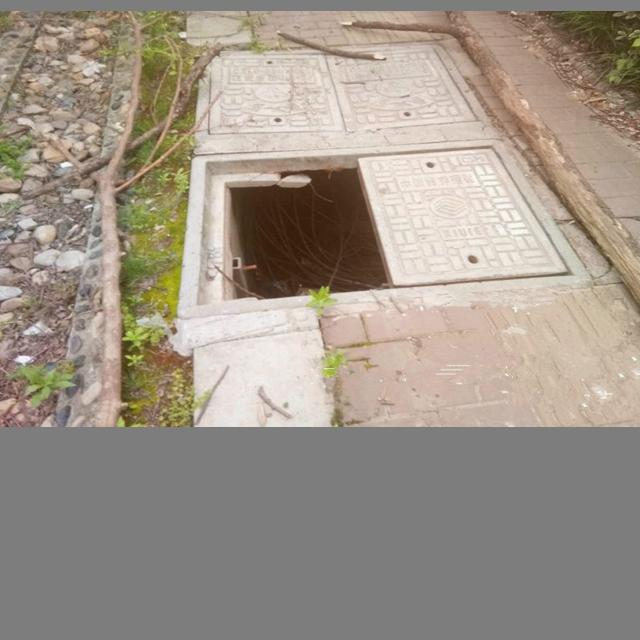good: (192, 40, 487, 153)
lose: (177, 138, 591, 319)
